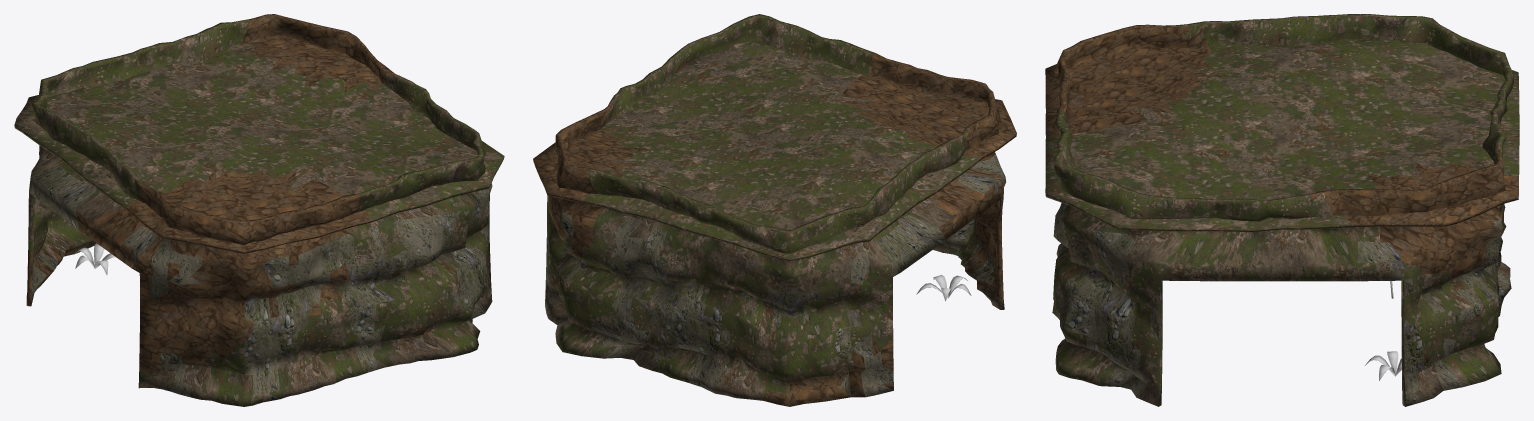
Rendered from grotto_lining_organic.obj.
The picture shows the model from 3 angles, left to right: view 1: azimuth 30°, elevation 25°; view 2: azimuth 150°, elevation 25°; view 3: azimuth 270°, elevation 25°; orthographic projection. The views are drawn at different scales.
Parts seen in each view (by area): view 1: grotto_lining_Rock_skin, grotto_lining_Soft_details; view 2: grotto_lining_Rock_skin, grotto_lining_Soft_details; view 3: grotto_lining_Rock_skin, grotto_lining_Soft_details.
Boxes of the visible parts, x1,y1,x2,y2 form: grotto_lining_Rock_skin: [14, 14, 504, 406]; grotto_lining_Soft_details: [74, 243, 115, 274]; grotto_lining_Rock_skin: [533, 14, 1016, 406]; grotto_lining_Soft_details: [916, 275, 971, 301]; grotto_lining_Rock_skin: [1045, 14, 1519, 406]; grotto_lining_Soft_details: [1365, 281, 1401, 380].
Bounding box in the file's own units: 727 × 381 × 766.
